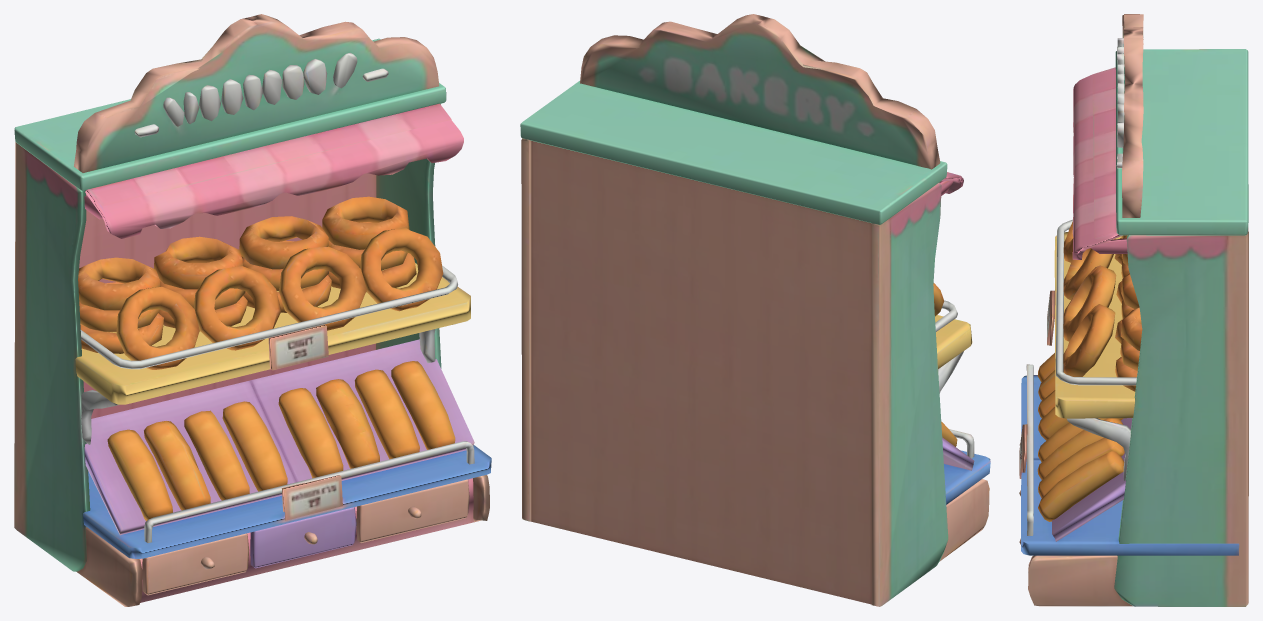
Rendered from bakery-bread-rack.glb.
The picture shows the model from 3 angles, left to right: view 1: azimuth 30°, elevation 25°; view 2: azimuth 150°, elevation 25°; view 3: azimuth 270°, elevation 25°; orthographic projection. The views are drawn at different scales.
Visible parts, largest first — view 1: geometry_0; view 2: geometry_0; view 3: geometry_0.
Part boxes in pixels (left/top/right/bottom): geometry_0: left=14, top=14, right=491, bottom=606; geometry_0: left=520, top=14, right=990, bottom=606; geometry_0: left=1019, top=14, right=1248, bottom=606.
Size of the model in its own units: 0.7574 by 1 by 0.4258.
Materials: 1 (1 with a texture image).
